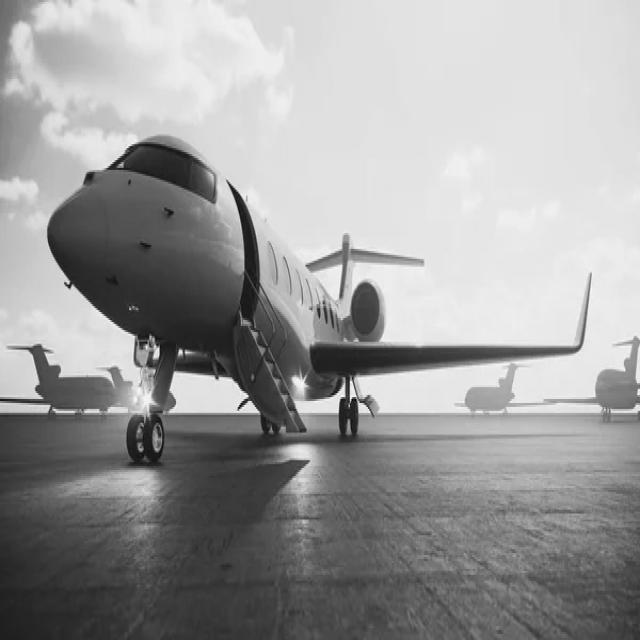Aircraft: (47, 120, 595, 461)
